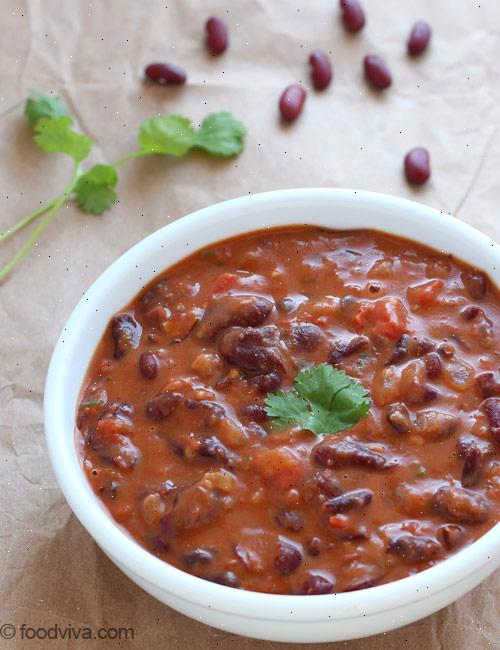rajma: (65, 217, 500, 568)
